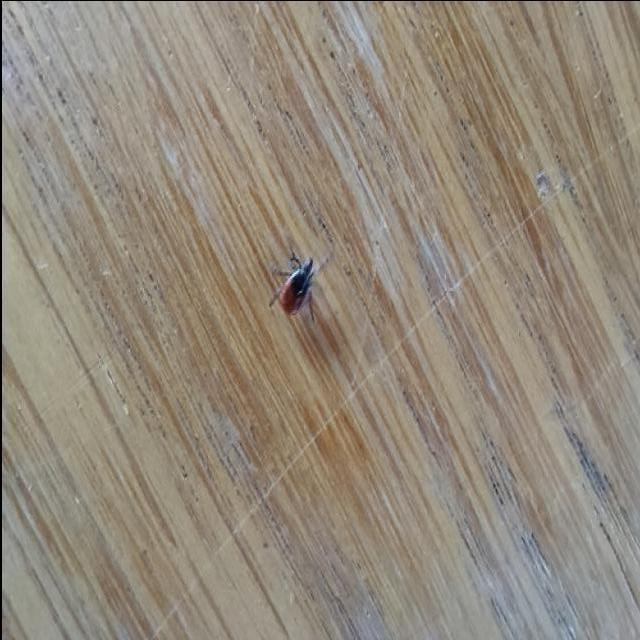Ixodes Ricinus-F: (266, 244, 317, 316)
